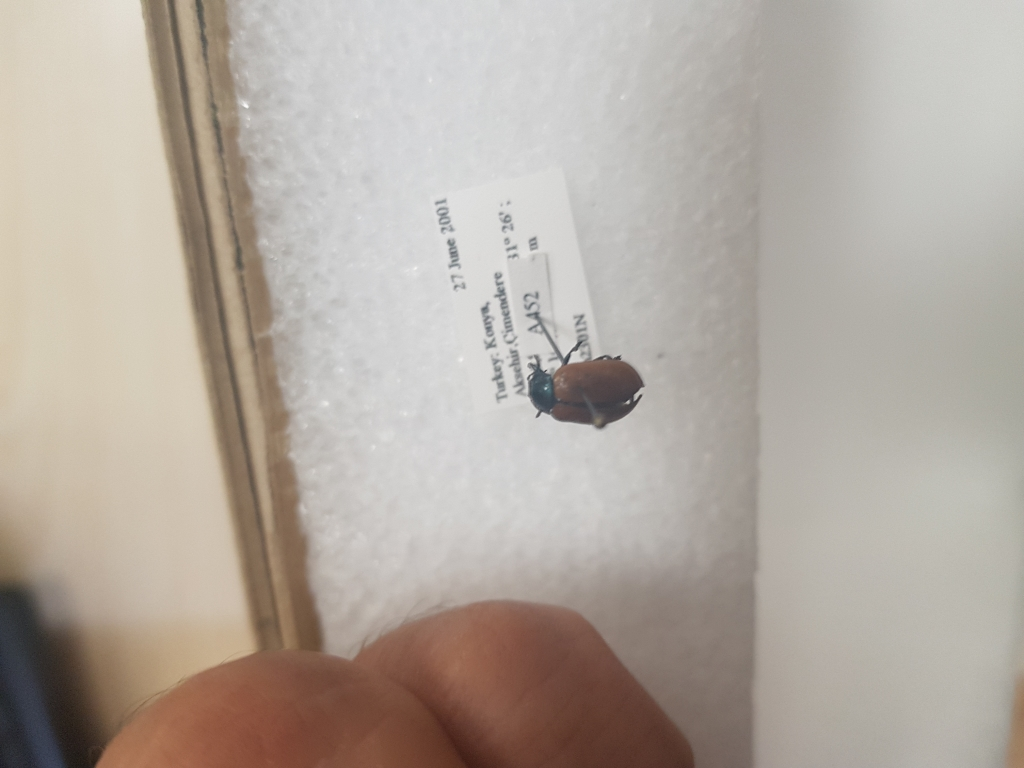Chrysomela_populi: (524, 351, 647, 429)
